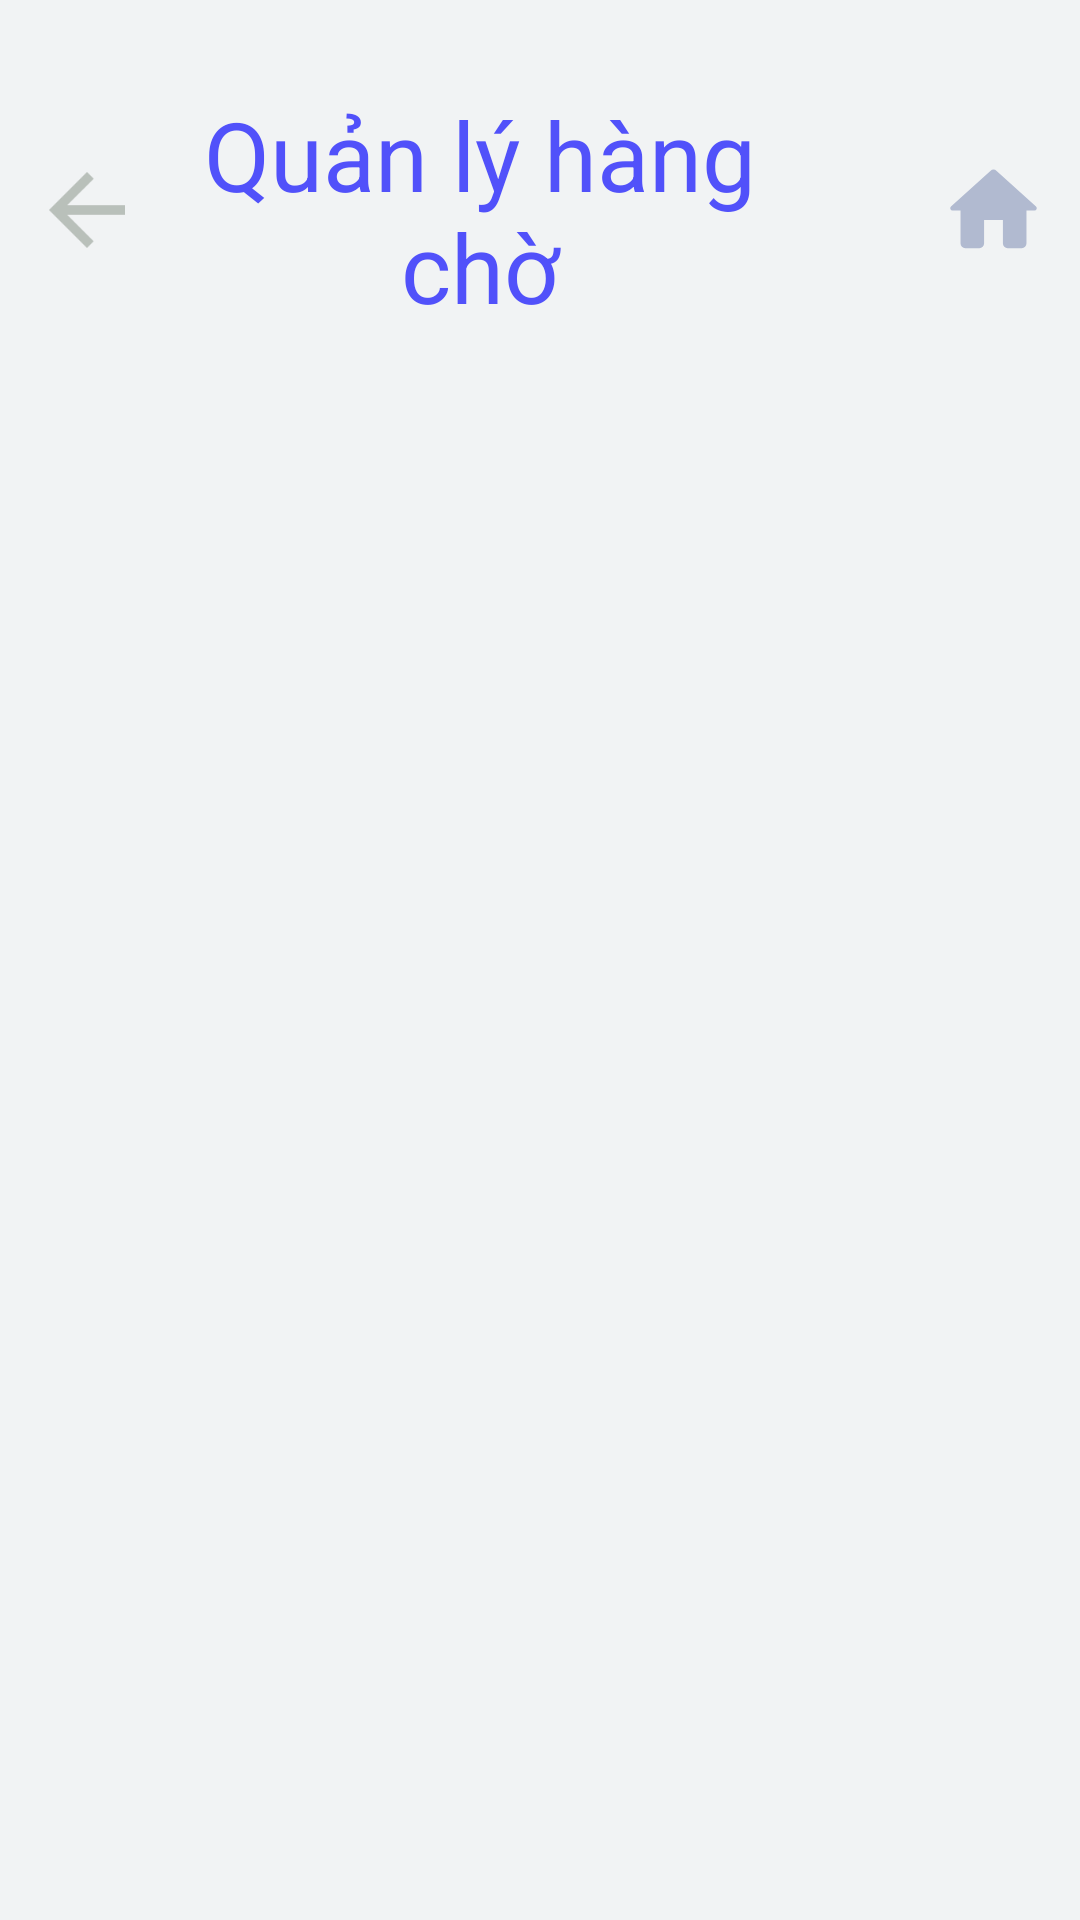

Where to tap for icons on this 1080x1920 app screen, as (x,y):
back: (87,210)
home: (993,208)
